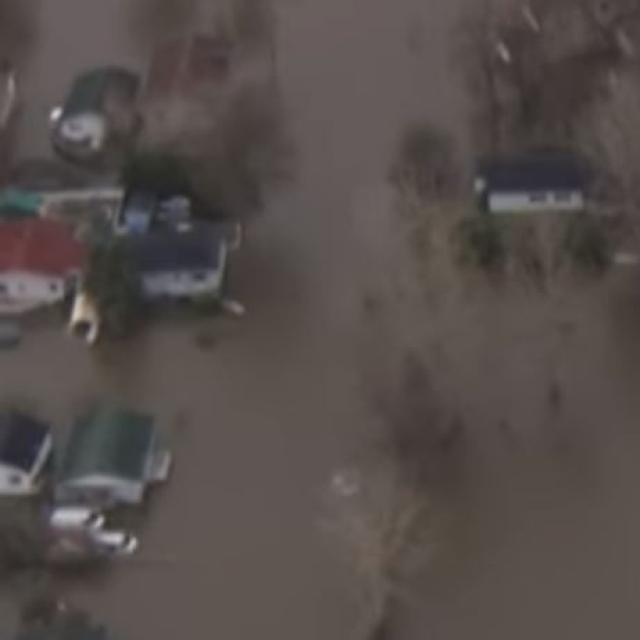flooded_areas: (18, 3, 590, 629)
